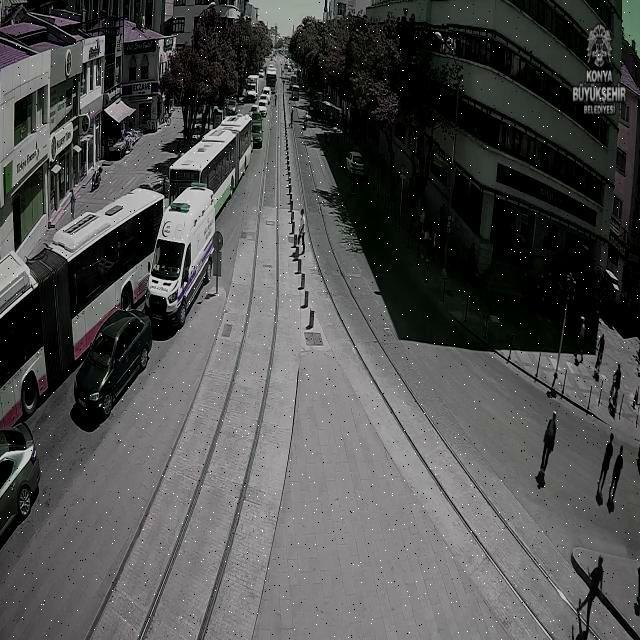Bus: (0, 186, 156, 430), (171, 116, 253, 219)
Car: (78, 308, 150, 426), (0, 422, 39, 528), (253, 121, 263, 149), (248, 104, 258, 119), (259, 94, 268, 109), (263, 88, 272, 102), (260, 104, 266, 118)
Truck: (143, 182, 217, 331), (245, 72, 259, 103)
